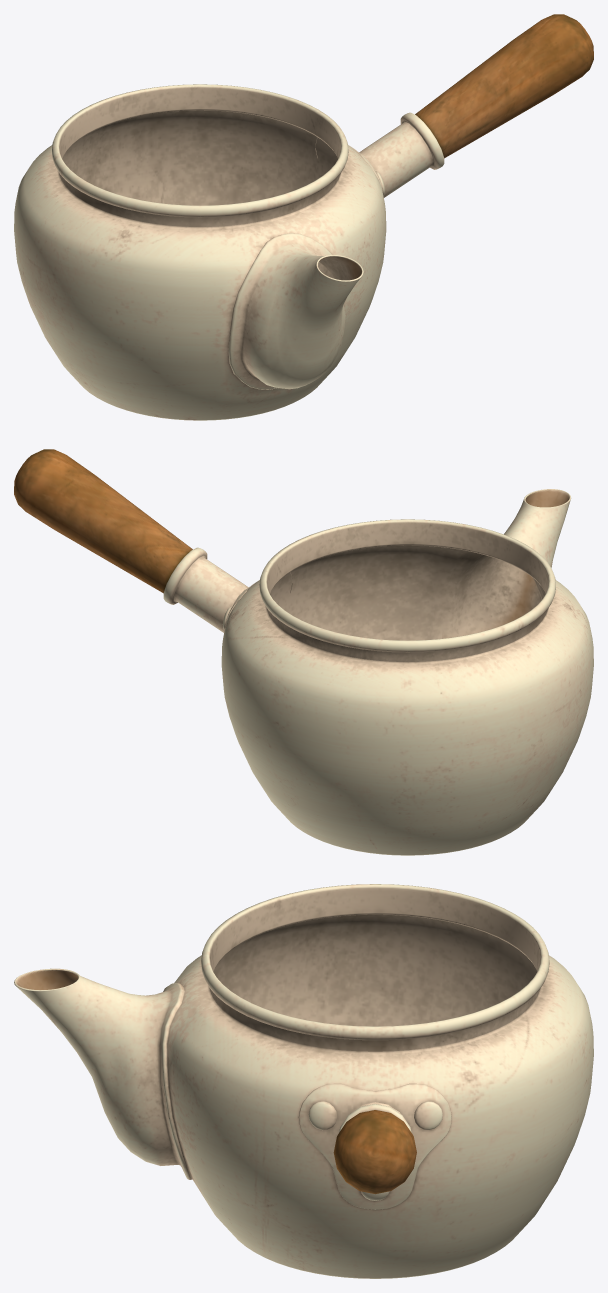
Rendered from SM_Teapot_Body.fbx.
3 renders of one model, top to bottom at view 1: azimuth 30°, elevation 25°; view 2: azimuth 150°, elevation 25°; view 3: azimuth 270°, elevation 25°, orthographic. The views are drawn at different scales.
Parts seen in each view (by area): view 1: SM_Teapot_Body; view 2: SM_Teapot_Body; view 3: SM_Teapot_Body.
Boxes of the visible parts, <box> form: SM_Teapot_Body: <box>14,14,593,420</box>; SM_Teapot_Body: <box>14,449,593,855</box>; SM_Teapot_Body: <box>14,884,593,1278</box>.
Bounding box in the file's own units: 12 × 5.5 × 9.34.
1 material, 1 textured.
